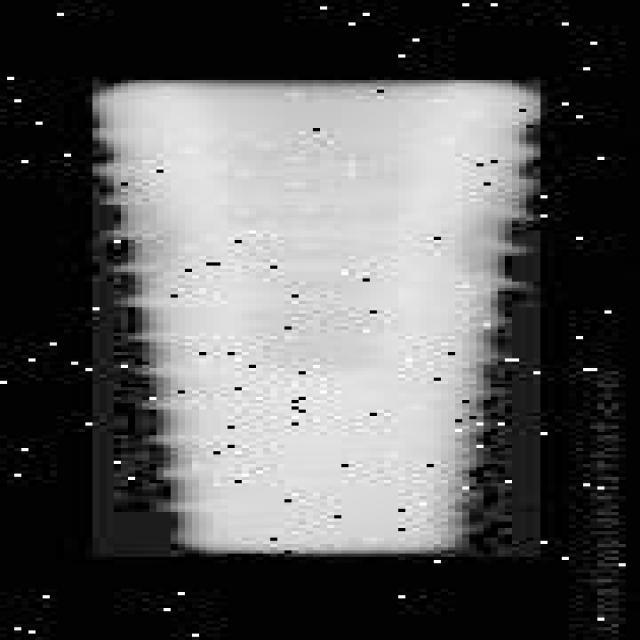Nobel Biocare Implant: (92, 80, 540, 557)
